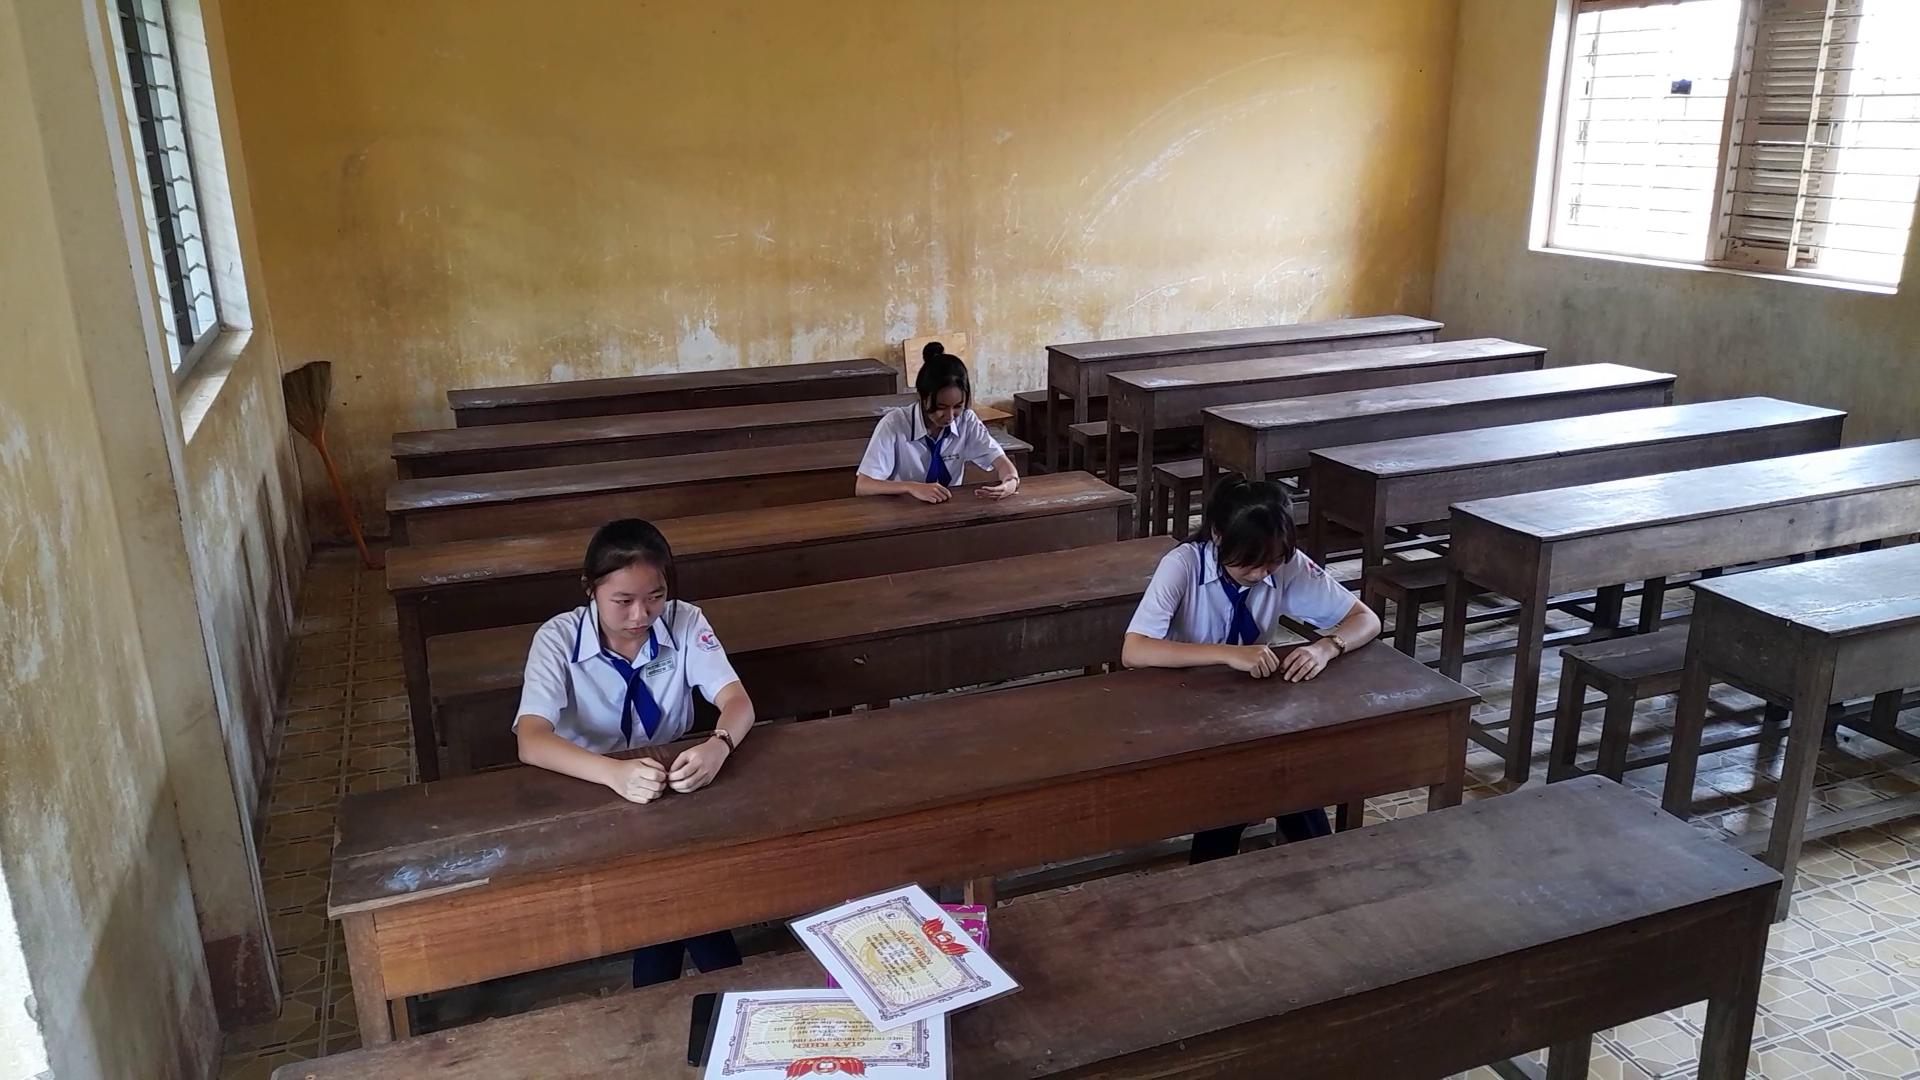Bend Over The Desk: (1168, 462, 1320, 603)
Normal: (491, 501, 766, 807), (836, 318, 1040, 509)
